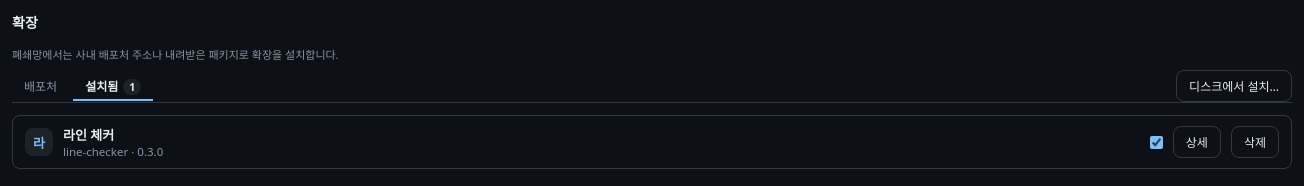
Test: 삭제 › 바로 지우지 않고 한 번 묻는다
The image size is (1304, 186).
Click the button "삭제" at (1255, 142), box [1231,126,1279,158]
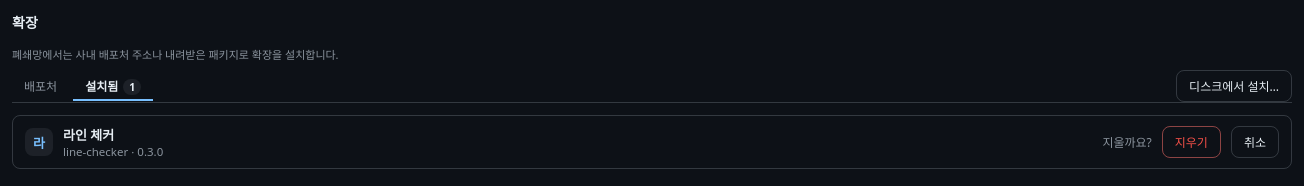
Result: the text "지울까요?" is shown at [1102,133,1152,151]
